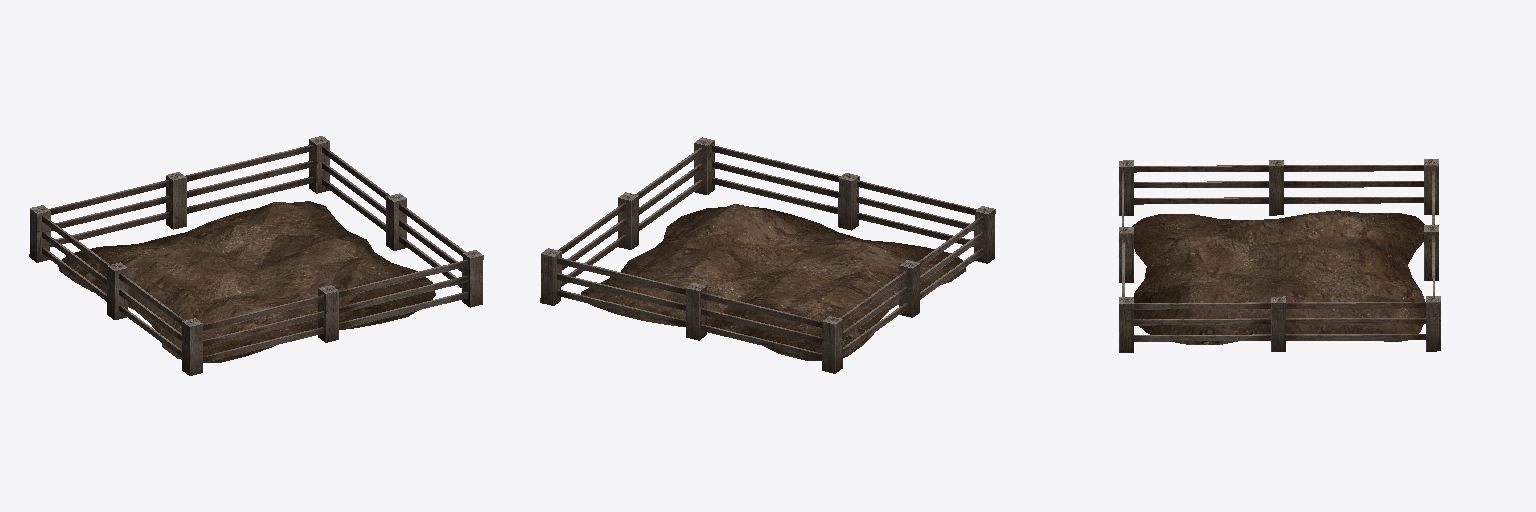
3 views of the same model, side by side, from view 1: azimuth 30°, elevation 25°; view 2: azimuth 150°, elevation 25°; view 3: azimuth 270°, elevation 25° (orthographic).
Parts seen in each view (by area): view 1: Box01_0; view 2: Box01_0; view 3: Box01_0.
Boxes of the visible parts, <box> form: Box01_0: <box>29,136,483,375</box>; Box01_0: <box>540,137,995,373</box>; Box01_0: <box>1119,159,1440,352</box>.
Size of the model in its own units: 4.1 by 0.6796 by 3.9.
1 materials, 1 textured.